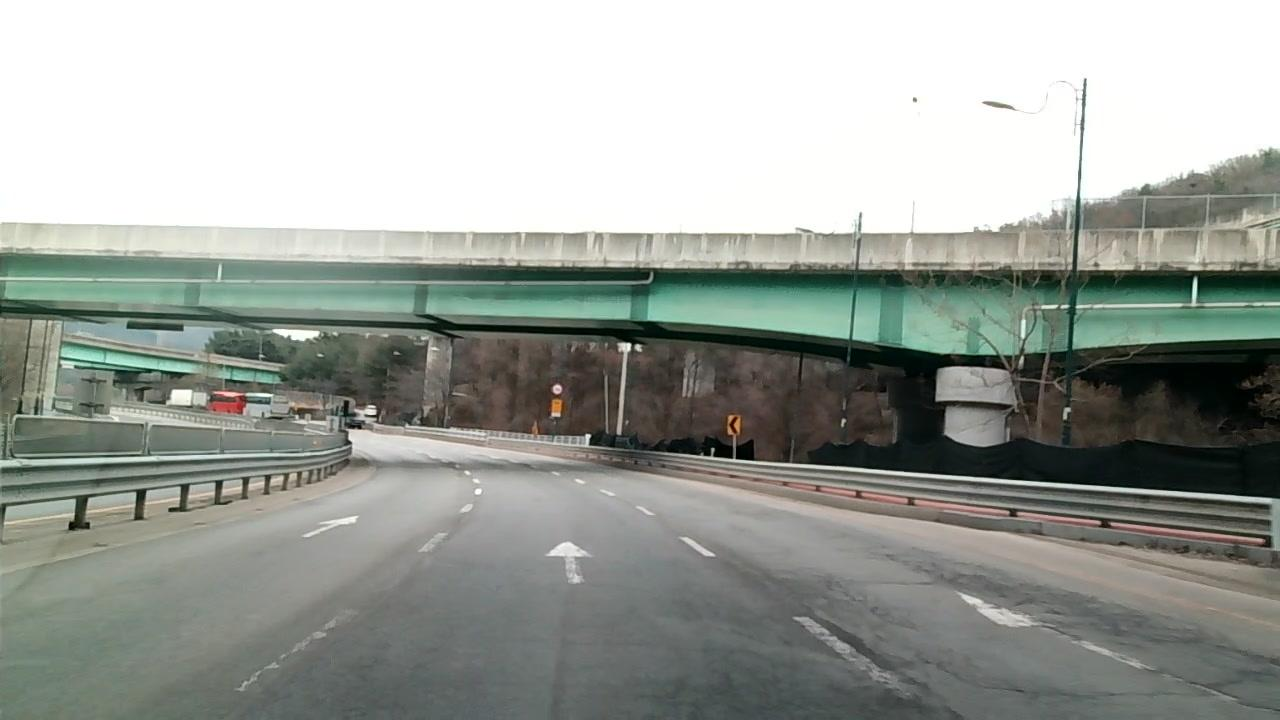banner: (1053, 601, 1223, 677), (928, 554, 1040, 621), (997, 684, 1207, 700), (910, 652, 977, 686)
